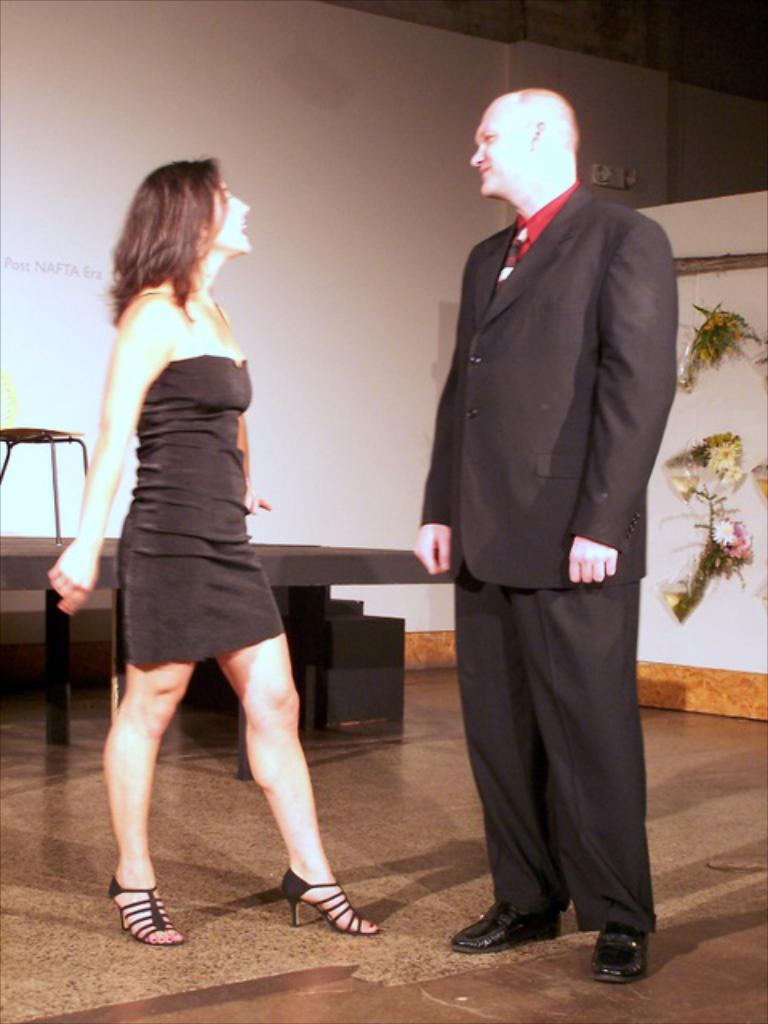Human_hand: (27, 525, 99, 624), (563, 538, 619, 581), (413, 522, 454, 578), (245, 480, 267, 520)
